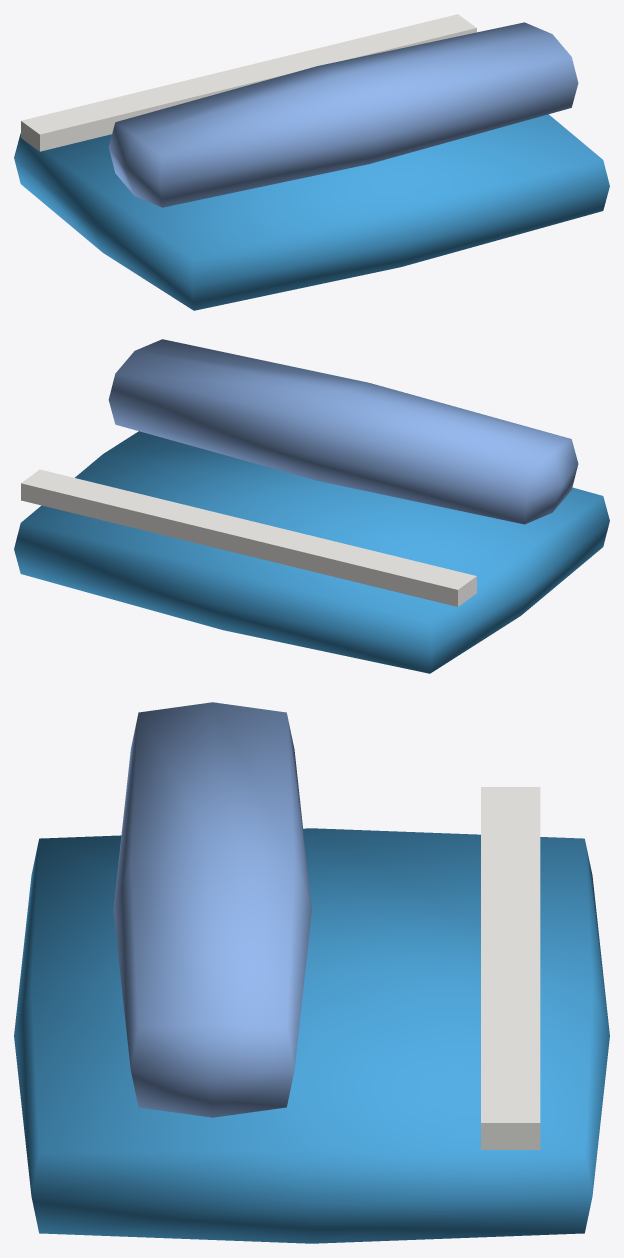
File: towel.glb
3 renders of one model, top to bottom at view 1: azimuth 30°, elevation 25°; view 2: azimuth 150°, elevation 25°; view 3: azimuth 270°, elevation 25°, orthographic. The views are drawn at different scales.
Visible parts, largest first — view 1: root; view 2: root; view 3: root.
Boxes of the visible parts, left/top/right/bottom form: root: left=14, top=14, right=609, bottom=310; root: left=14, top=339, right=609, bottom=673; root: left=14, top=702, right=609, bottom=1243.
Bounding box in the file's own units: 0.4 × 0.14 × 0.3.
